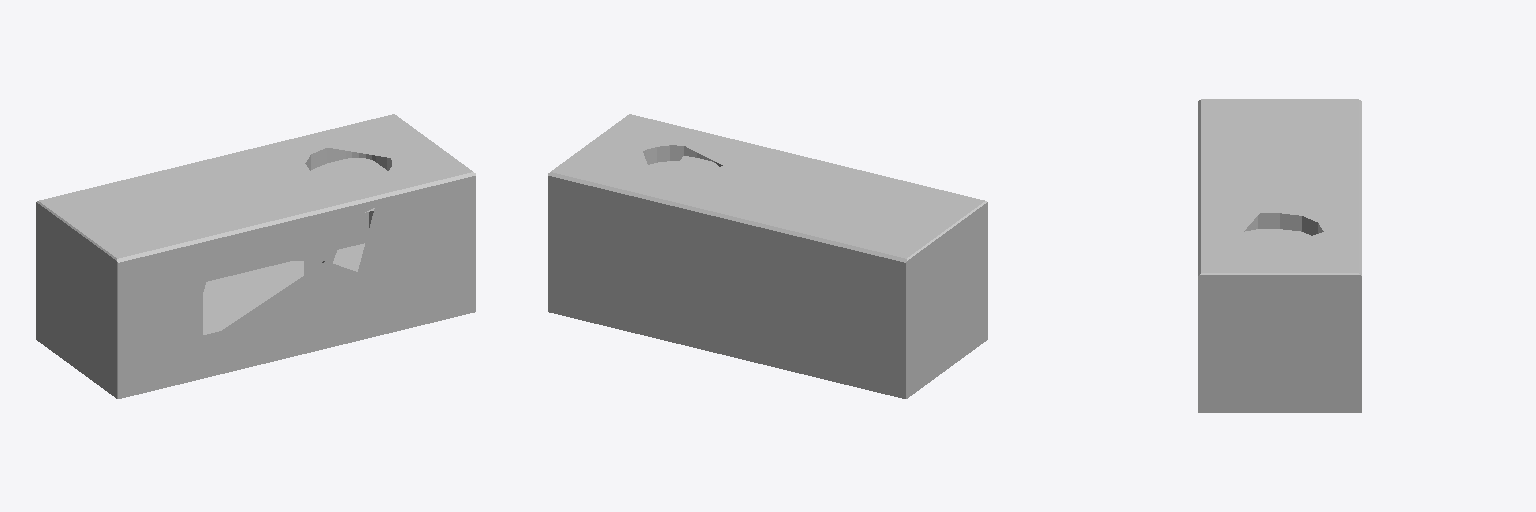
Rendered from lavatrastesCuerpo.obj.
3 views of the same model, side by side, from view 1: azimuth 30°, elevation 25°; view 2: azimuth 150°, elevation 25°; view 3: azimuth 270°, elevation 25° (orthographic).
Visible parts, largest first — view 1: pCube13; view 2: pCube13; view 3: pCube13.
Boxes of the visible parts, x1,y1,x2,y2 form: pCube13: [36, 114, 475, 398]; pCube13: [548, 114, 987, 398]; pCube13: [1198, 99, 1361, 412].
Bounding box in the file's own units: 16.07 × 5.96 × 6.39.